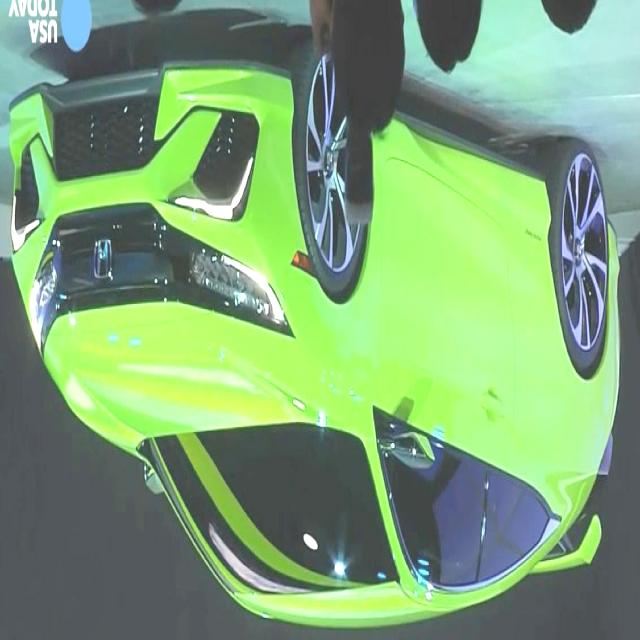green: (7, 33, 620, 630)
